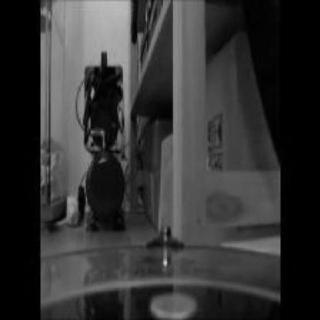other: (173, 155, 283, 243)
